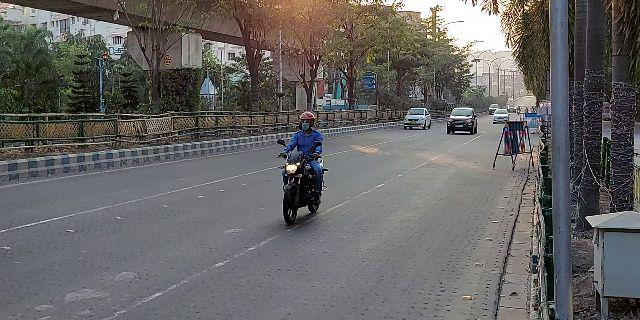Car: (443, 104, 481, 139), (399, 103, 433, 132)
Motorbike: (272, 101, 331, 230)
